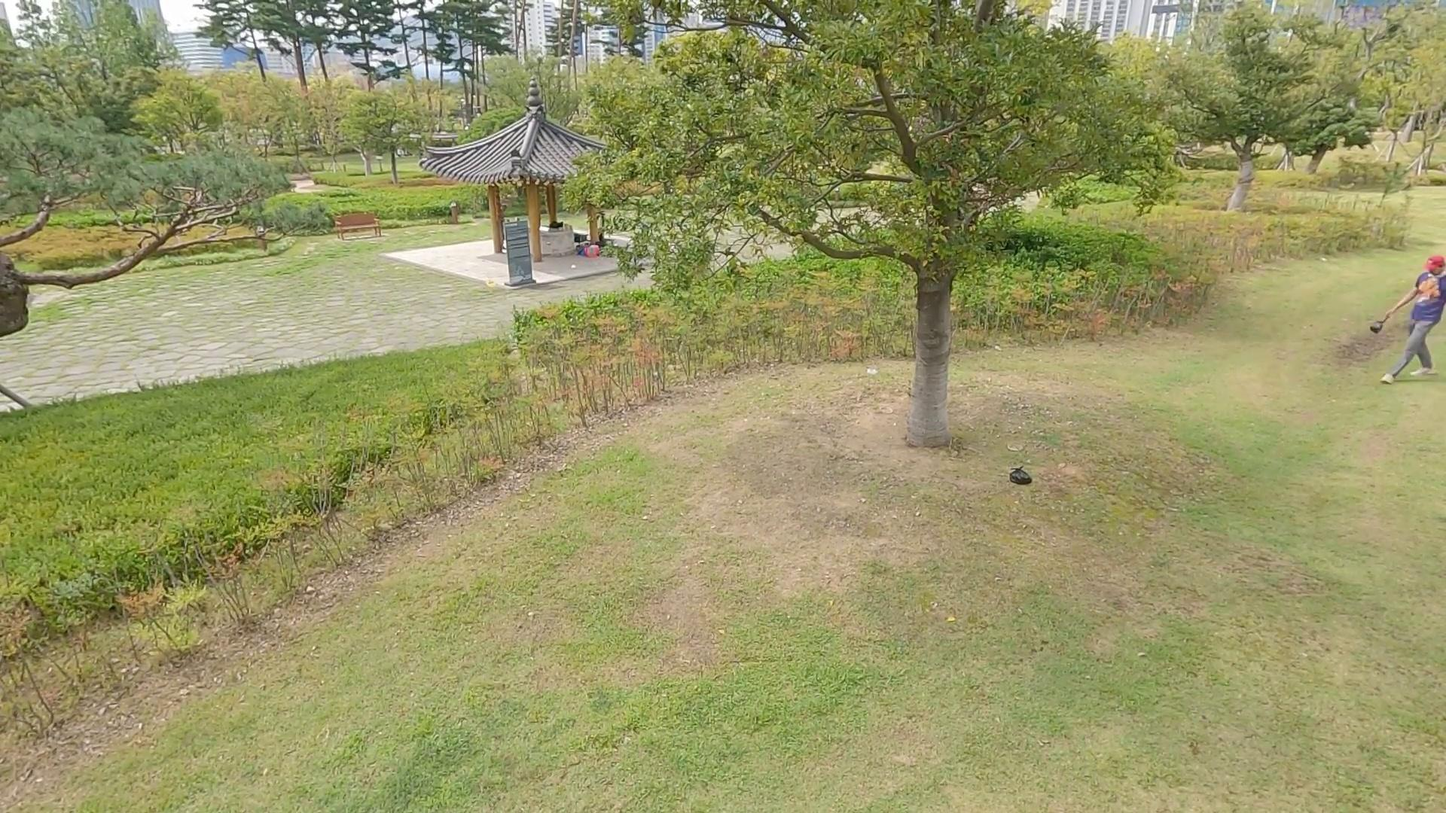person: (1379, 254, 1446, 389)
trash: (1008, 465, 1034, 485), (1369, 319, 1384, 333)
